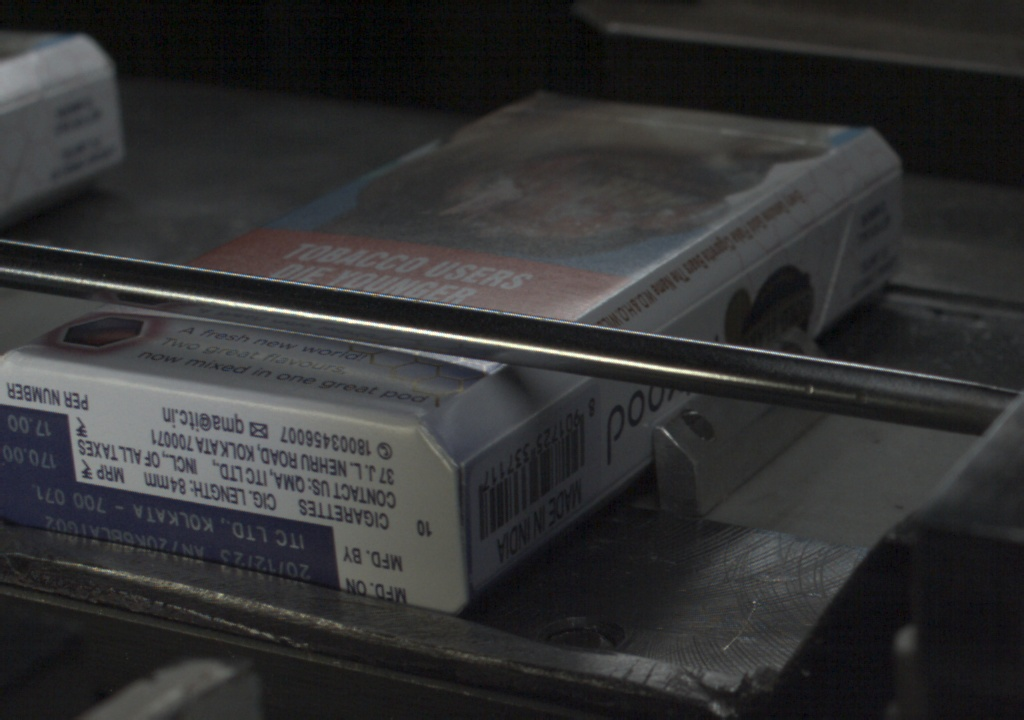g_bottom: (1, 361, 453, 612)
g_label: (1, 483, 338, 590)
g_lmiter: (660, 265, 756, 329), (758, 198, 848, 263), (459, 421, 524, 464), (523, 374, 585, 415)
g_miter: (851, 161, 900, 196)
price: (1, 410, 76, 481)
